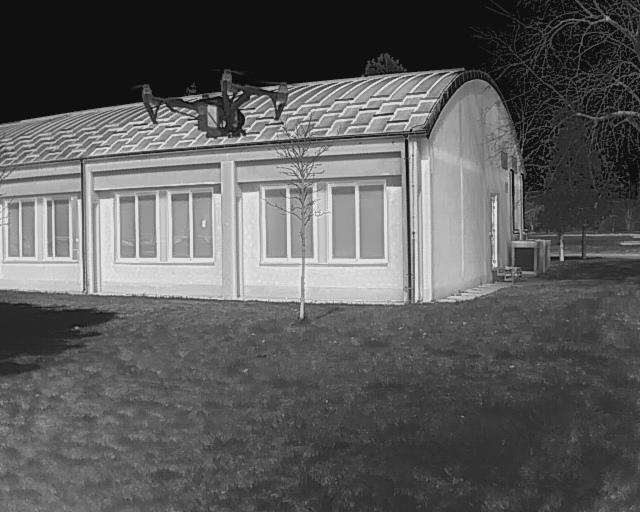drone: (120, 56, 308, 155)
